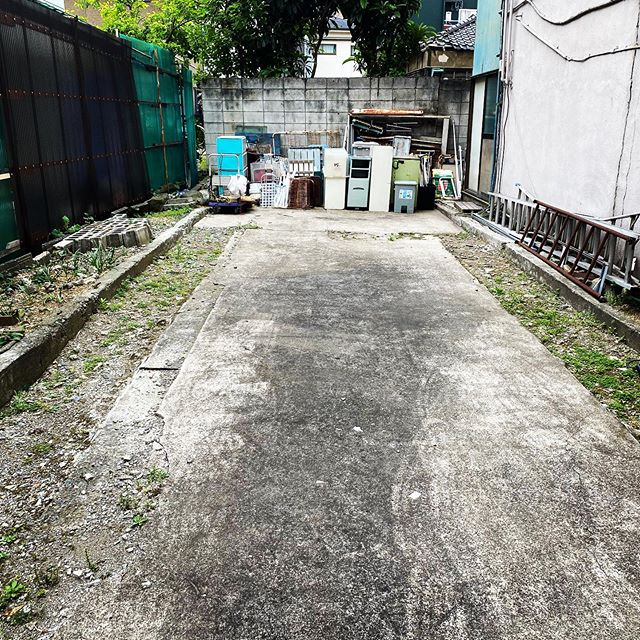building: (472, 1, 640, 344)
trash: (188, 98, 472, 228)
